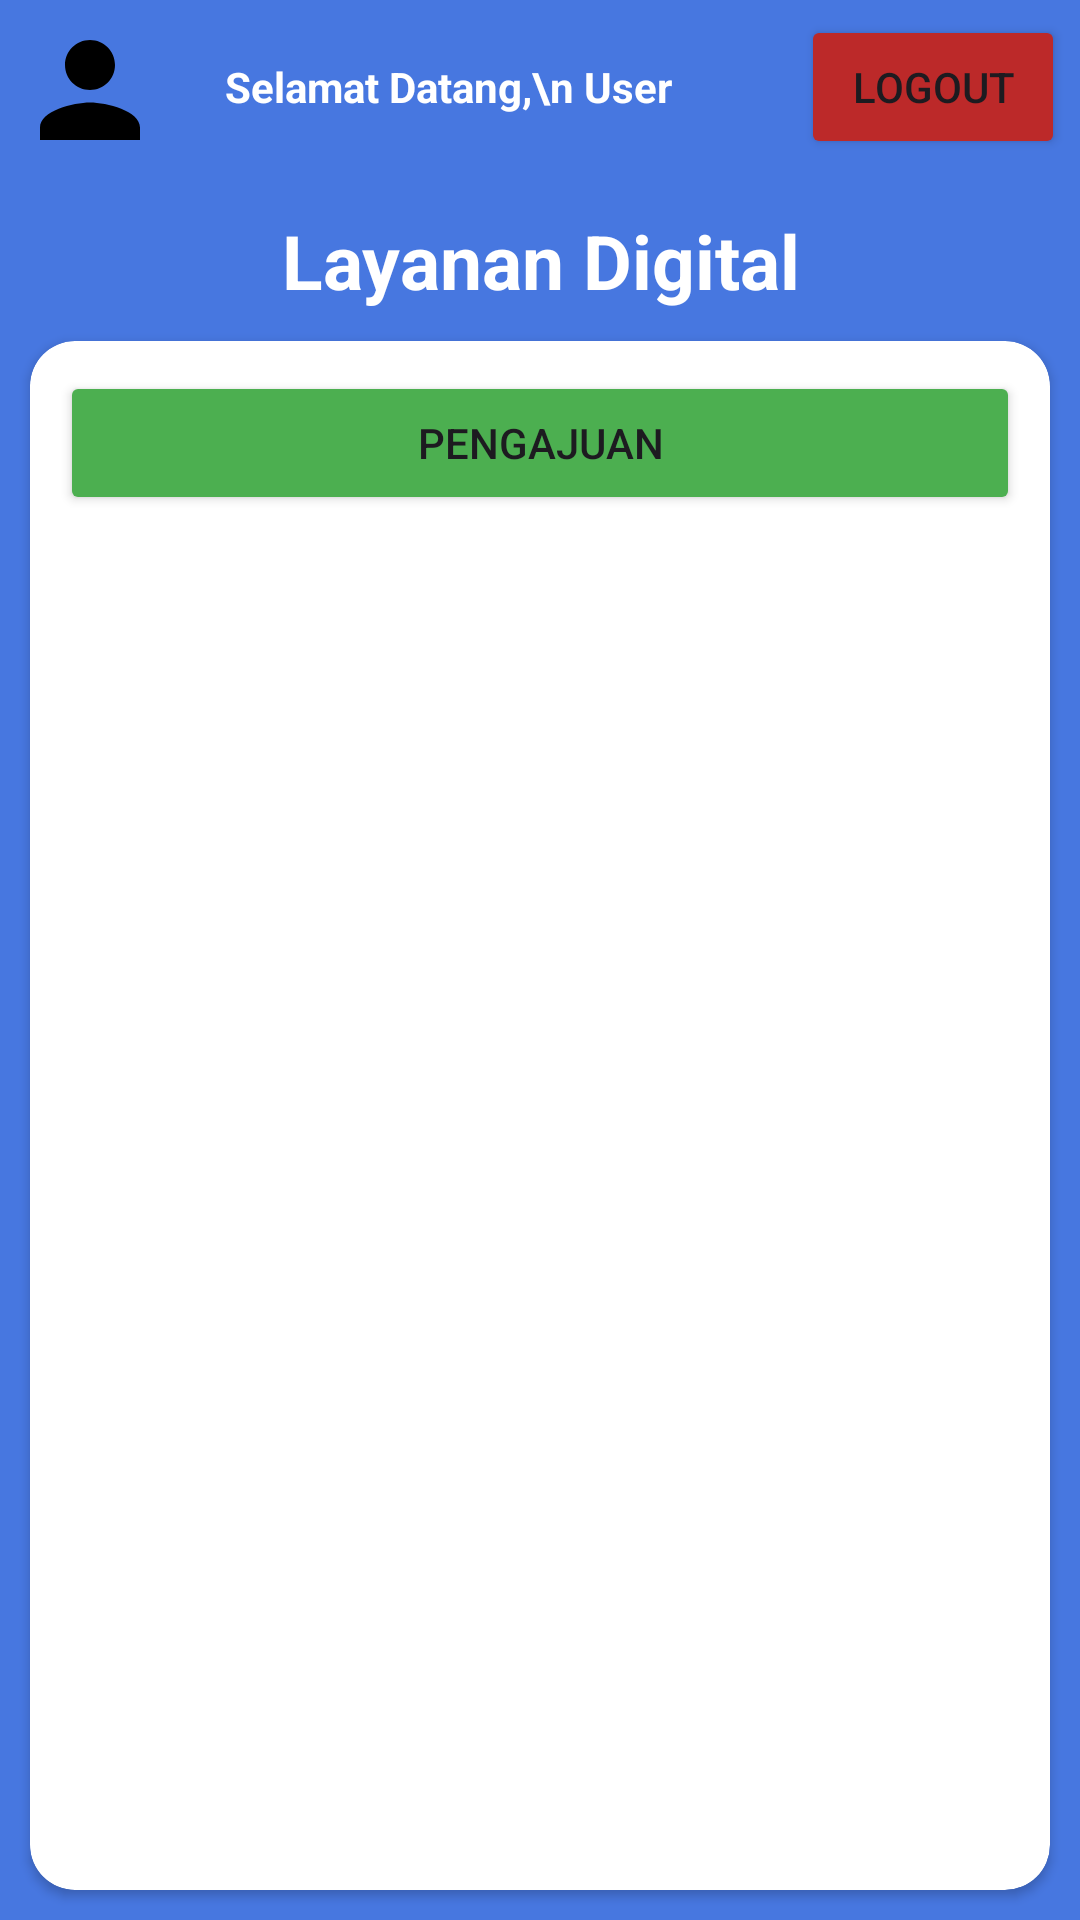

Icons on this 1080×1920 Android screen, each with its box as Rect(x1, y1, x2, y2):
person: Rect(40, 40, 140, 140)
